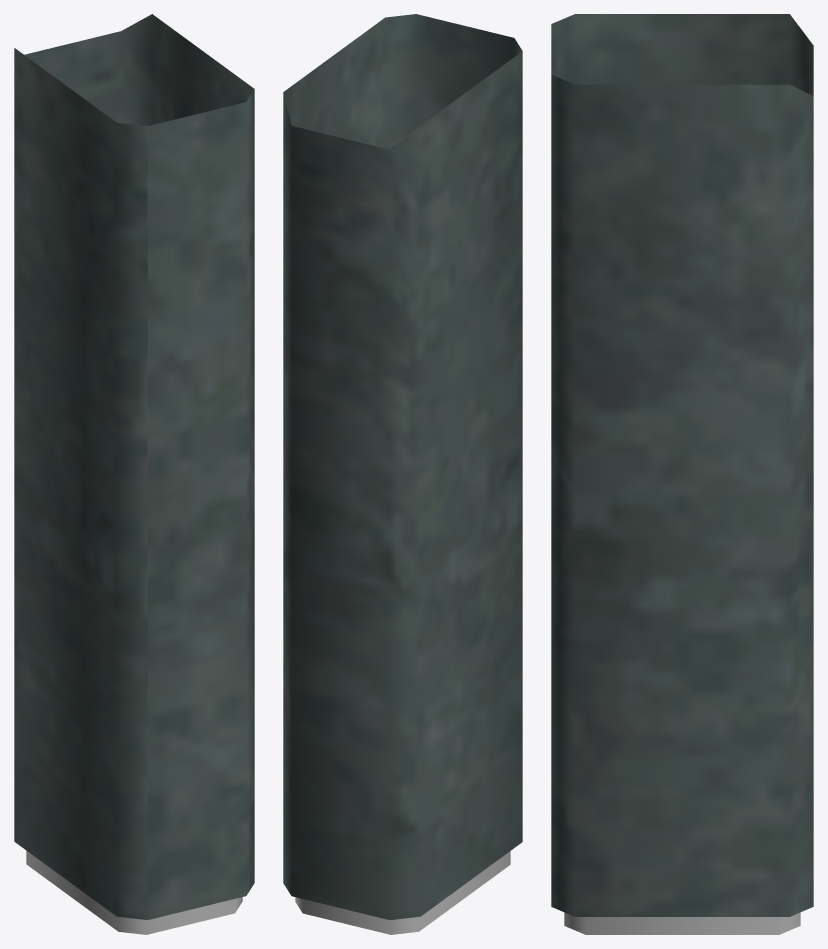
3 views of the same model, side by side, from view 1: azimuth 30°, elevation 25°; view 2: azimuth 150°, elevation 25°; view 3: azimuth 270°, elevation 25° (orthographic). The views are drawn at different scales.
Visible parts, largest first — view 1: Joint_0_Object_0, Joint_0_Object_1; view 2: Joint_0_Object_0, Joint_0_Object_1; view 3: Joint_0_Object_0, Joint_0_Object_1.
Part boxes in pixels (x1,y1,x2,y2): Joint_0_Object_0: [14, 14, 254, 919]; Joint_0_Object_1: [26, 851, 242, 934]; Joint_0_Object_0: [283, 14, 522, 919]; Joint_0_Object_1: [295, 851, 510, 934]; Joint_0_Object_0: [551, 14, 813, 916]; Joint_0_Object_1: [564, 912, 800, 934].
Size of the model in its own units: 70 by 395 by 110.
